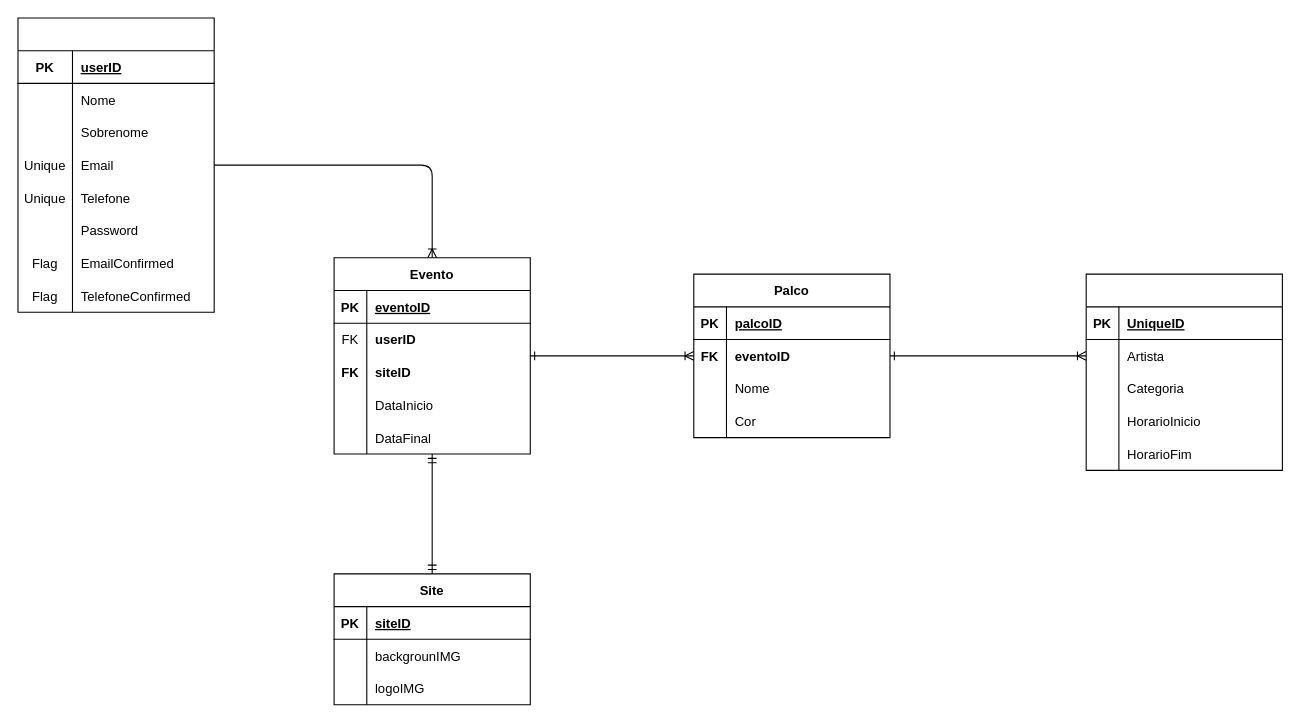
Image size: 1300x723. Some labels were removed from this diagram. Each missing label, with the box of its shape:
Show: (1085, 273, 1282, 470)
Usuario: (17, 17, 214, 312)
